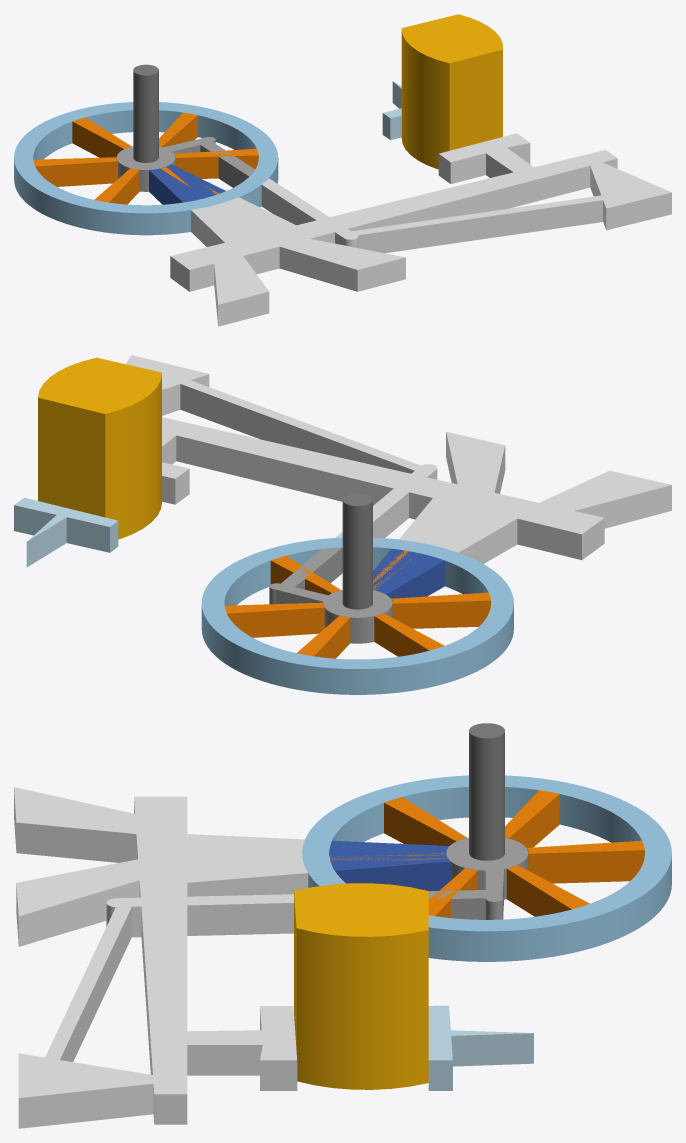
The model's file is Spindle.dae.
3 views of the same model, one above another, from view 1: azimuth 30°, elevation 25°; view 2: azimuth 150°, elevation 25°; view 3: azimuth 270°, elevation 25° (orthographic). The views are drawn at different scales.
Parts seen in each view (by area): view 1: 683c2961e829063e4b126da0 (×12); view 2: 683c2961e829063e4b126da0 (×12); view 3: 683c2961e829063e4b126da0 (×12).
Boxes of the visible parts, bbox=[...] form: 683c2961e829063e4b126da0 (×12): bbox=[14, 14, 671, 326]; 683c2961e829063e4b126da0 (×12): bbox=[14, 355, 671, 694]; 683c2961e829063e4b126da0 (×12): bbox=[14, 723, 671, 1128].
Size of the model in its own units: 0.115 by 0.099 by 0.0254.
